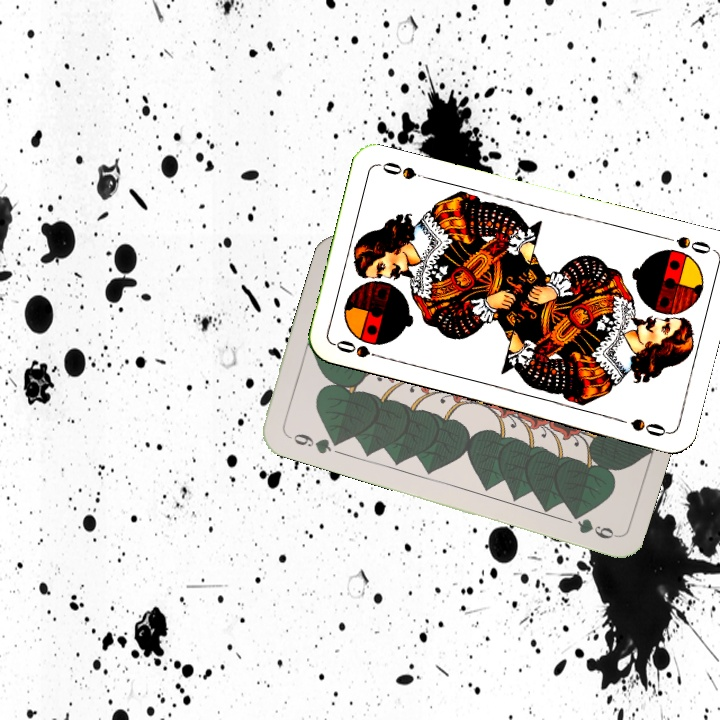G9: (283, 429, 343, 457)
SO: (331, 336, 389, 363), (657, 231, 716, 257)
